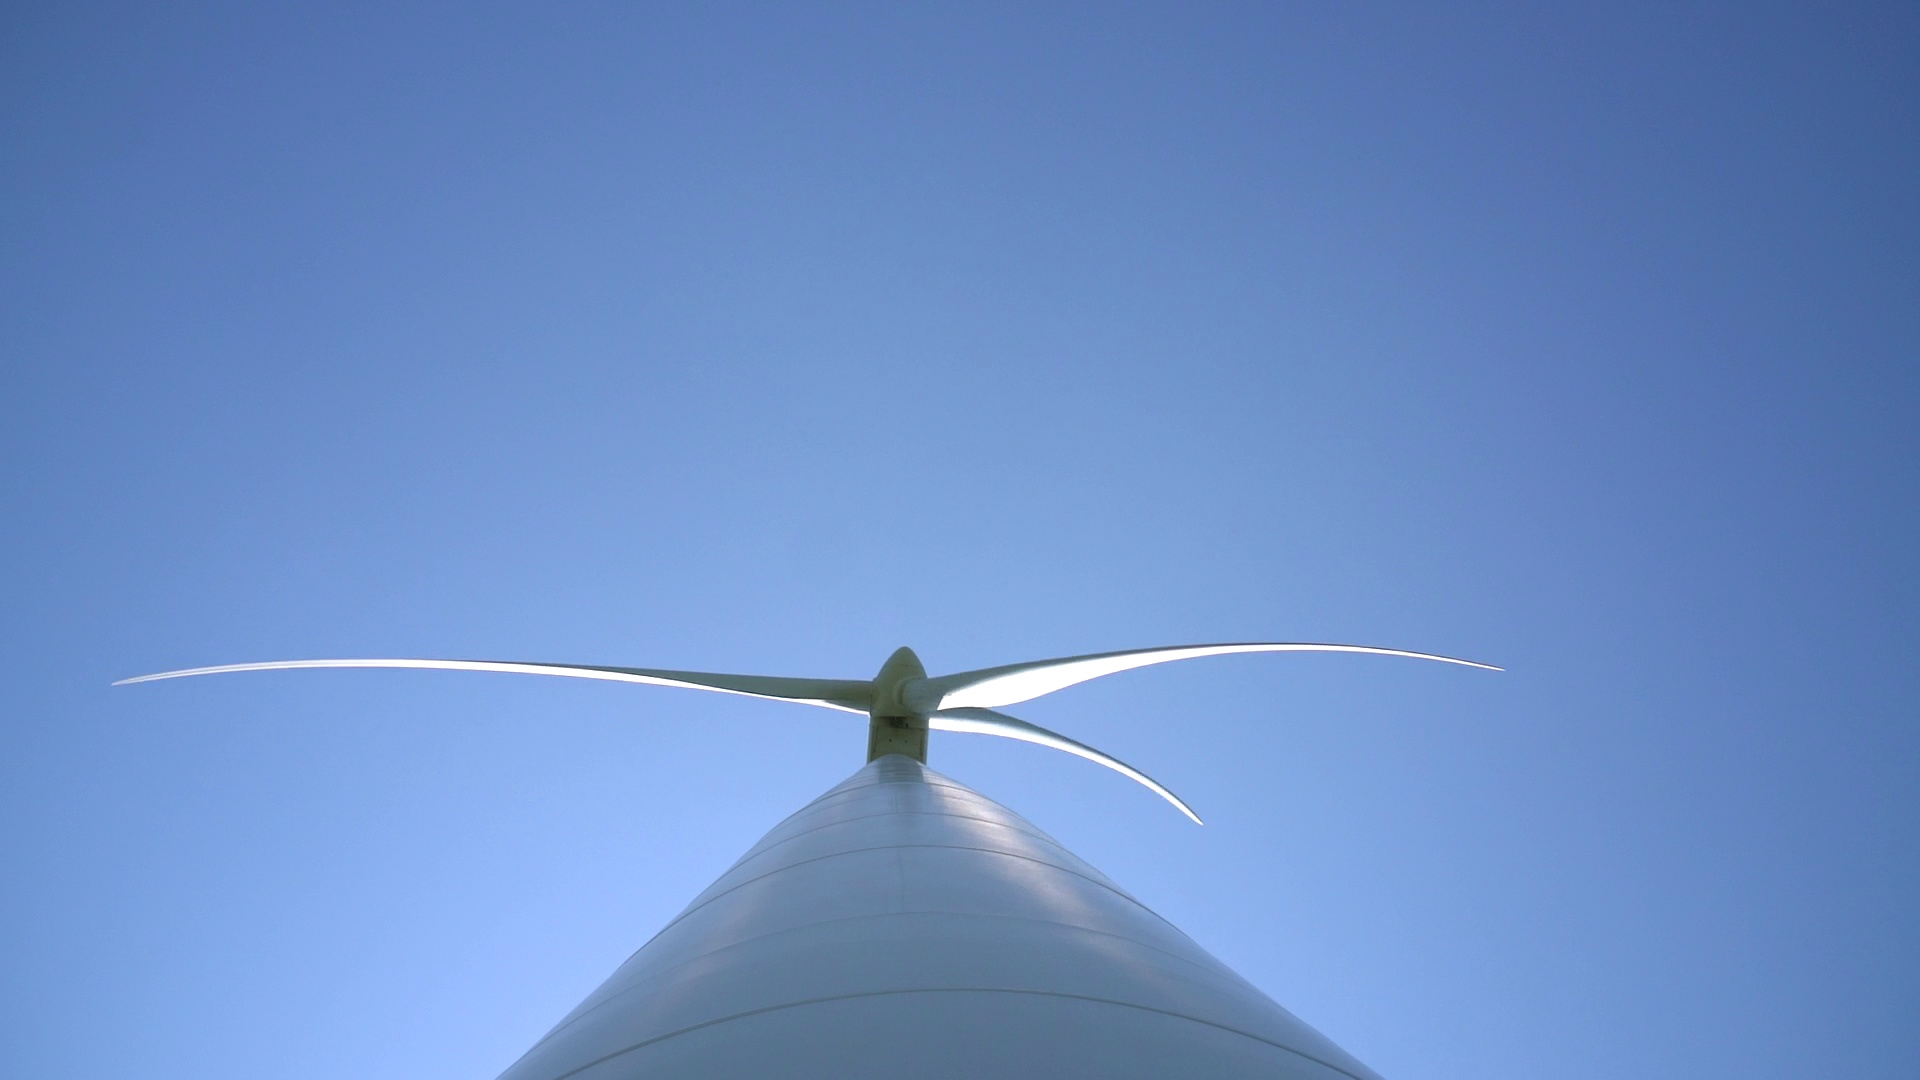turbine: (87, 620, 872, 757), (924, 640, 1551, 744), (914, 680, 1247, 837)
